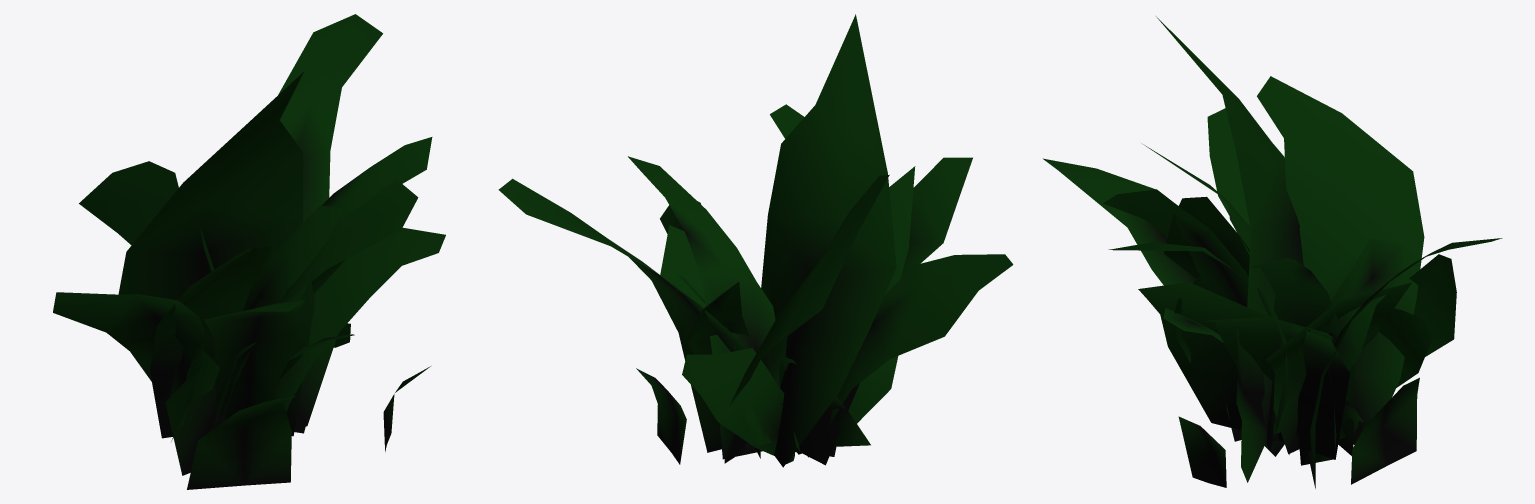
File: GrassTallDryGCATA_H.fbx
3 renders of one model, left to right at view 1: azimuth 30°, elevation 25°; view 2: azimuth 150°, elevation 25°; view 3: azimuth 270°, elevation 25°, orthographic. The views are drawn at different scales.
Visible parts, largest first — view 1: GTDH_LOD0; view 2: GTDH_LOD0; view 3: GTDH_LOD0.
Boxes of the visible parts, x1=… form: GTDH_LOD0: x1=53, y1=14, x2=445, y2=489; GTDH_LOD0: x1=498, y1=14, x2=1013, y2=467; GTDH_LOD0: x1=1043, y1=16, x2=1502, y2=488.
Size of what is drawn, in the model's own units: 1.86 by 1.81 by 1.78.
